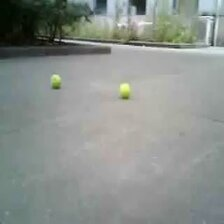tennis: (119, 83, 131, 98), (51, 75, 61, 86)
